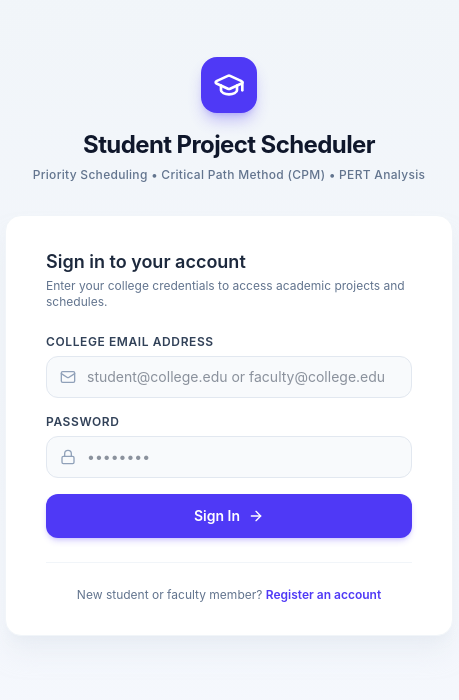
Test case: Authentication Forms › displays error message when login fails
This screenshot has width=459, height=700.
Type "wrong@college.edu" into the field with placeholder "student@college.edu or faculty@college.edu".
click(229, 376); type("wrong@college.edu")  # box [46,356,412,398]
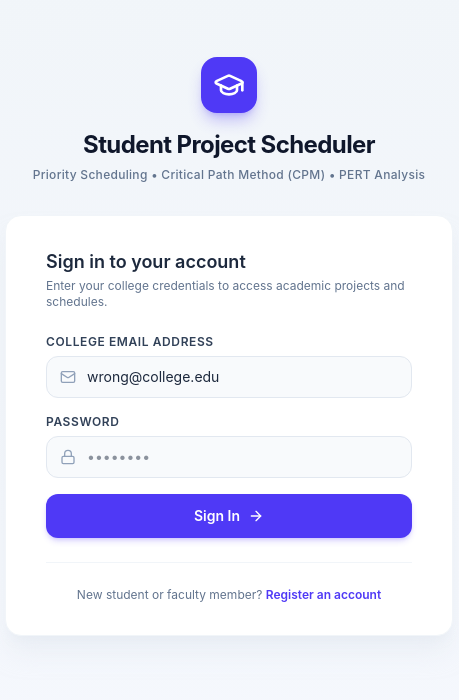
Type "WrongPassword" into the password field with placeholder "••••••••".
click(229, 456); type("WrongPassword")  # box [46,436,412,478]
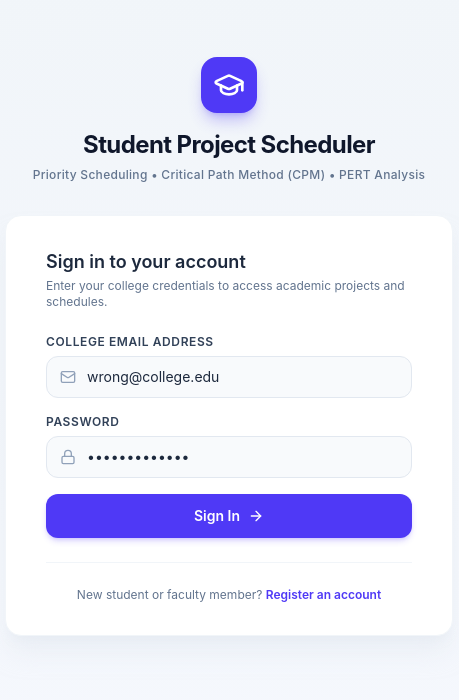
Click the button "Sign In".
click(229, 516)  # box [46,494,412,538]
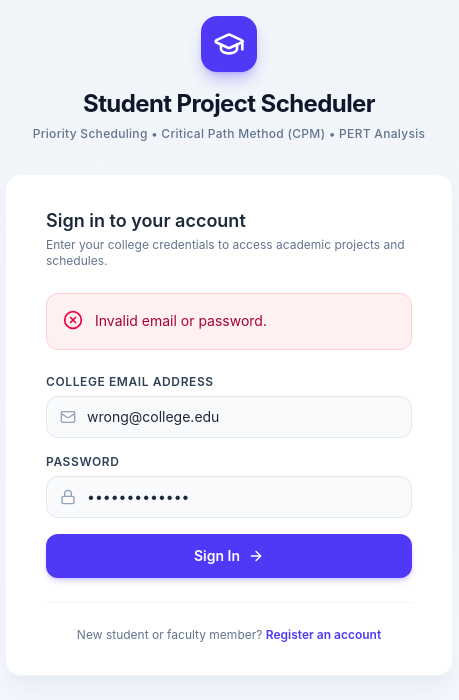
Expected: the text "Invalid email or password." is shown, [95,312,267,329]
